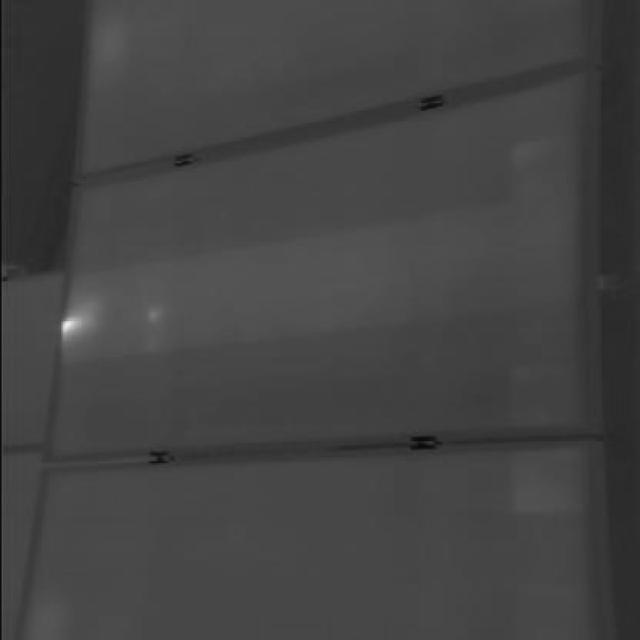hotspot: (52, 310, 96, 339)
